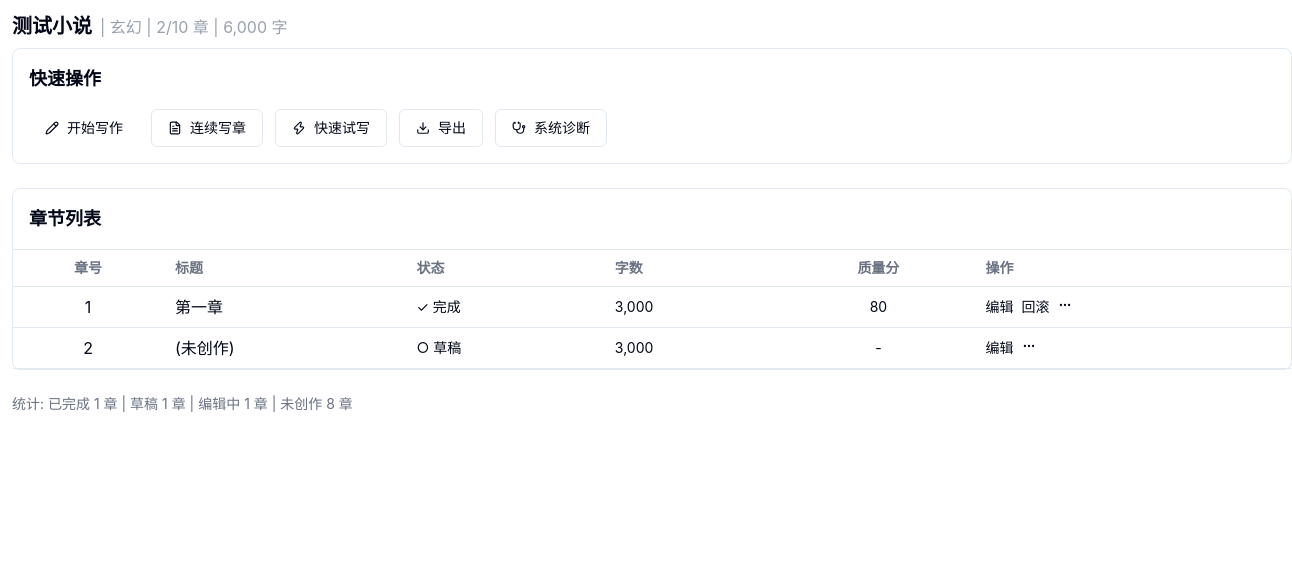
it: BookDetail Page › opens and closes action menu
The width and height of the screenshot is (1292, 587).
Expected: the heading "测试小说| 玄幻 | 2/10 章 | 6,000 字" is shown, [12,14,288,38]
Click the button titled "更多操作" in the row of "(未创作)": (1029, 346) [1022,339,1036,353]
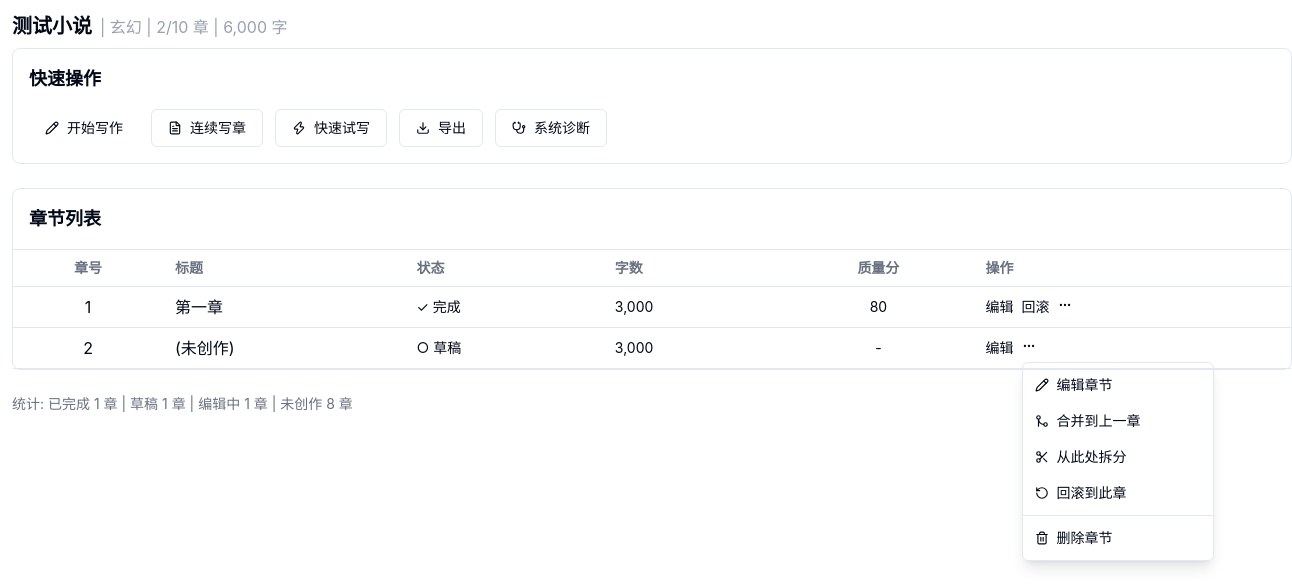
Expected: the button "合并到上一章" is shown, [1023,403,1213,439]
Expected: the button "从此处拆分" is shown, [1023,439,1213,475]
Expected: the button "回滚到此章" is shown, [1023,475,1213,511]
Click the button titled "更多操作" in the row of "(未创作)": (1029, 346) [1022,339,1036,353]
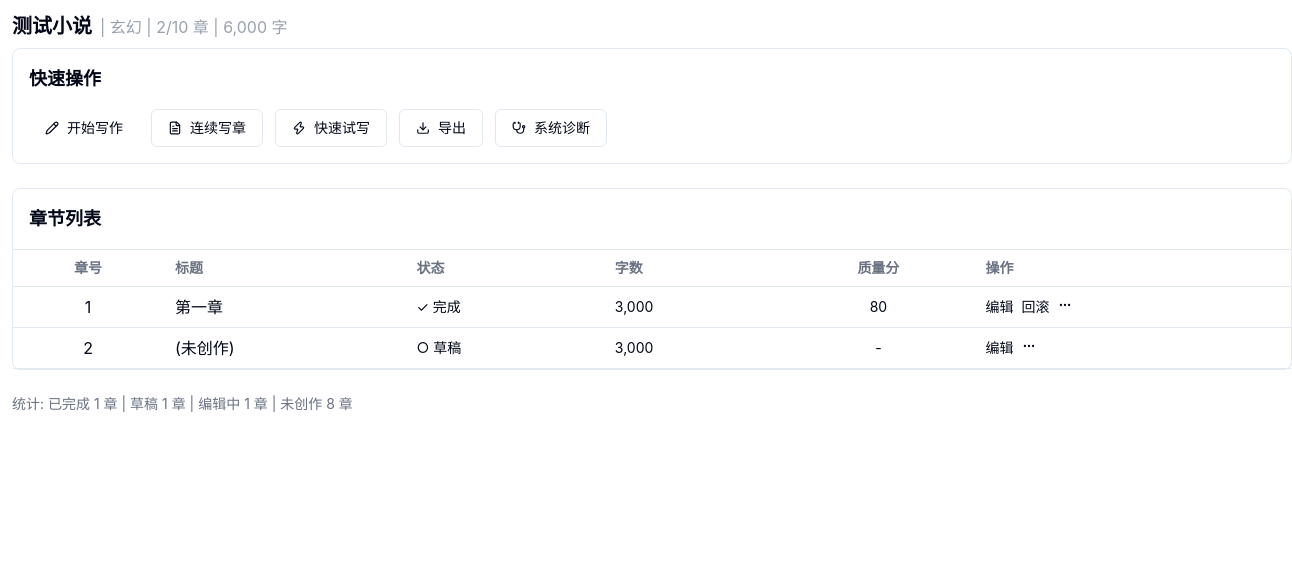
Expected: the button "合并到上一章" is gone
